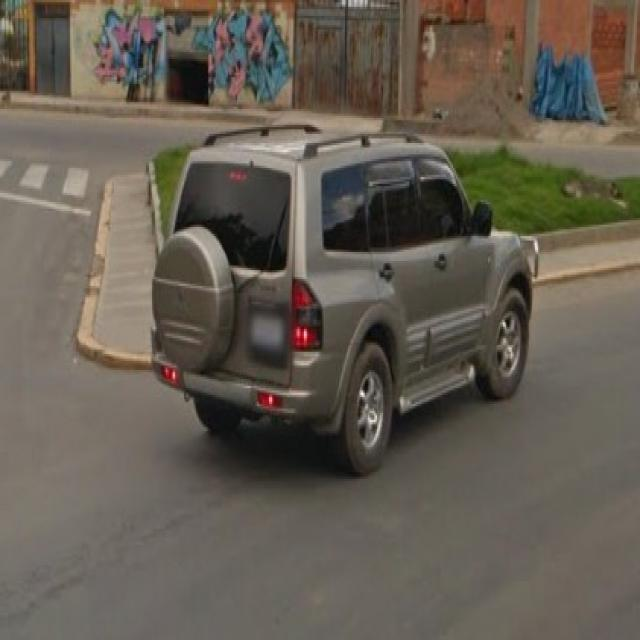car: (146, 122, 540, 476)
